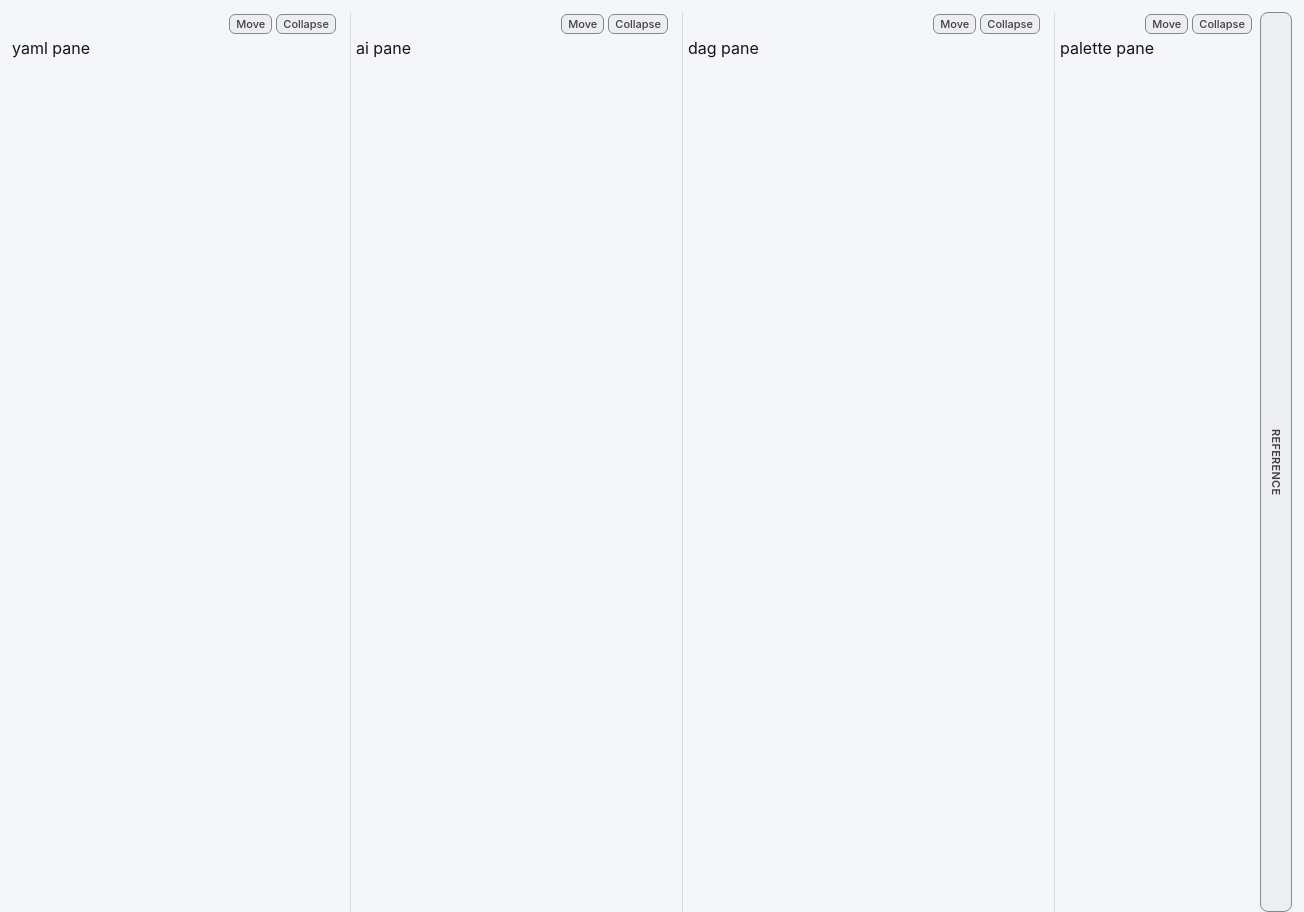
Test: LayoutRoot › lets an expanded pane collapse itself via its own "Collapse" button
expect the text "ai pane" is shown: met, box x1=356 y1=38 x2=411 y2=58
Click the button with aria-label "collapse ai assistant panel". click: x=638, y=24
box: x1=608 y1=14 x2=668 y2=34
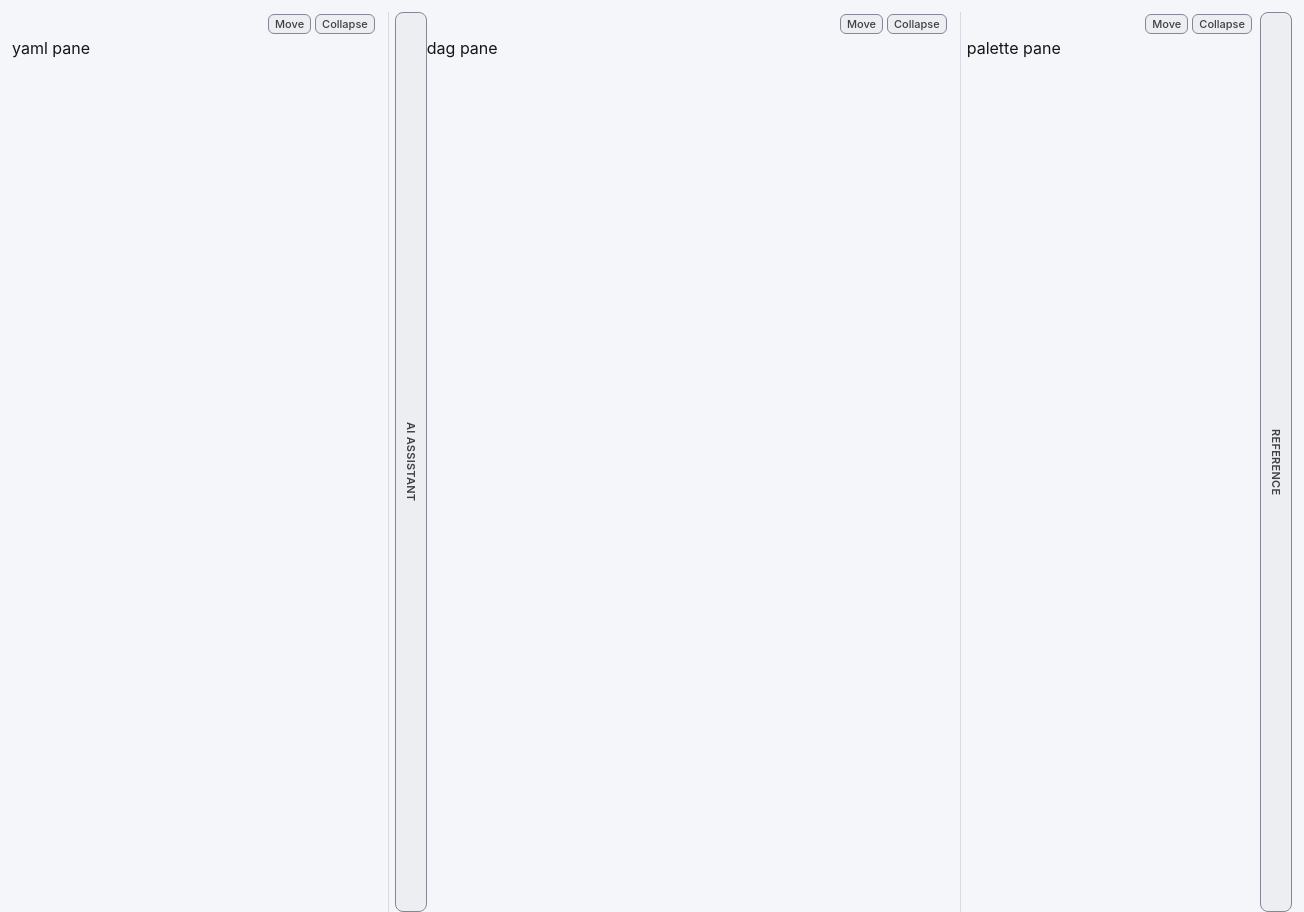
expect the text with test id "ai-content" is gone: met
